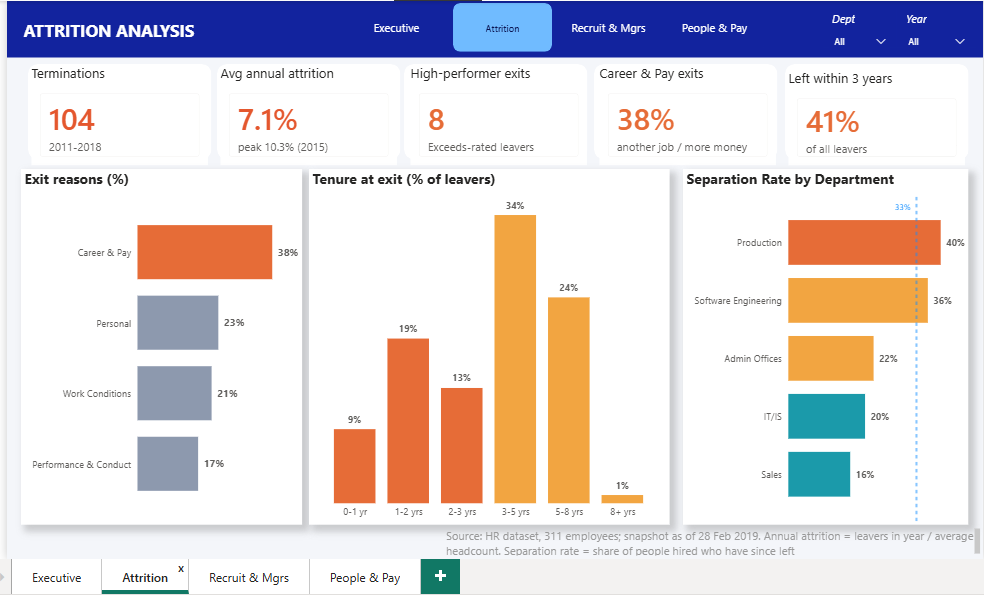

What the dashboard file says about the page in this screenshot:
{"tool":"powerbi","page":{"name":"Attrition","canvas":[1400,800],"ordinal":1},"visuals":[{"type":"shape","box":[0,0,1400,81.4],"z":0},{"type":"shape","box":[30.5,90.1,263.1,136.7],"z":1000},{"type":"shape","box":[300.9,90.1,263.1,136.7],"z":2000},{"type":"shape","box":[569.9,90.1,263.1,136.7],"z":3000},{"type":"textbox","box":[18.9,20.4,296.7,52.4],"z":4000},{"type":"slicer","fields":{"Values":["HRDataset.Department"]},"box":[1169.5,10.2,106.1,57.3],"z":5000},{"type":"slicer","fields":{"Values":["DimDate.Year"]},"box":[1275.6,10.2,113.3,57.3],"z":6000},{"type":"pageNavigator","box":[487.7,3,600.6,70.8],"z":7000},{"type":"shape","box":[841.7,90.1,263.1,136.7],"z":8000},{"type":"shape","box":[1115.5,90.3,263.4,137],"z":9000},{"type":"cardVisual","title":"Terminations","fields":{"Data":["_measures.Terminated"]},"box":[30.5,90.1,263,150],"z":10000},{"type":"cardVisual","title":"Avg annual attrition","fields":{"Data":["_measures.Avg Annual Attrition %"]},"box":[301.7,90.1,263,150],"z":11000},{"type":"cardVisual","title":"High-performer exits","fields":{"Data":["_measures.High Performer Exits"]},"box":[573,90.1,263,150],"z":12000},{"type":"cardVisual","title":"Career & Pay exits","fields":{"Data":["_measures.Career & Pay Exit Share"]},"box":[844.2,90.1,263,150],"z":13000},{"type":"cardVisual","title":"Left within 3 years","fields":{"Data":["_measures.Left Within 3 Years %"]},"box":[1115.4,96.9,263.1,143.1],"z":14000},{"type":"clusteredBarChart","title":"Exit reasons (%)","fields":{"Category":["HRDataset.Exit Category"],"Y":["_measures.% of Leavers"]},"box":[20.5,240.9,403.1,510.2],"z":15000},{"type":"clusteredColumnChart","title":"Tenure at exit (% of leavers)","fields":{"Category":["HRDataset.Tenure Band"],"Y":["_measures.% of Leavers"]},"box":[433.1,240.9,516.5,510.2],"z":16000},{"type":"clusteredBarChart","fields":{"Category":["HRDataset.Department"],"Y":["_measures.Attrition Rate"]},"box":[968.5,240.9,409.4,510.2],"z":17000},{"type":"textbox","box":[625.2,751.2,774.8,48.8],"z":18000}]}

Visuals, with their boxes on the page's 1400x800 design canvas (x1, y1, x2, y2). These are canvas units, not pixel positions in the 984x595 screenshot, which may show the page scaled, cropped or inside an application window:
shape: [x1=0, y1=0, x2=1400, y2=81]
shape: [x1=30, y1=90, x2=294, y2=227]
shape: [x1=301, y1=90, x2=564, y2=227]
shape: [x1=570, y1=90, x2=833, y2=227]
textbox: [x1=19, y1=20, x2=316, y2=73]
slicer - HRDataset.Department: [x1=1170, y1=10, x2=1276, y2=68]
slicer - DimDate.Year: [x1=1276, y1=10, x2=1389, y2=68]
pageNavigator: [x1=488, y1=3, x2=1088, y2=74]
shape: [x1=842, y1=90, x2=1105, y2=227]
shape: [x1=1116, y1=90, x2=1379, y2=227]
"Terminations" cardVisual: [x1=30, y1=90, x2=294, y2=240]
"Avg annual attrition" cardVisual: [x1=302, y1=90, x2=565, y2=240]
"High-performer exits" cardVisual: [x1=573, y1=90, x2=836, y2=240]
"Career & Pay exits" cardVisual: [x1=844, y1=90, x2=1107, y2=240]
"Left within 3 years" cardVisual: [x1=1115, y1=97, x2=1378, y2=240]
"Exit reasons (%)" clusteredBarChart: [x1=20, y1=241, x2=424, y2=751]
"Tenure at exit (% of leavers)" clusteredColumnChart: [x1=433, y1=241, x2=950, y2=751]
clusteredBarChart - HRDataset.Department x _measures.Attrition Rate: [x1=968, y1=241, x2=1378, y2=751]
textbox: [x1=625, y1=751, x2=1400, y2=800]
